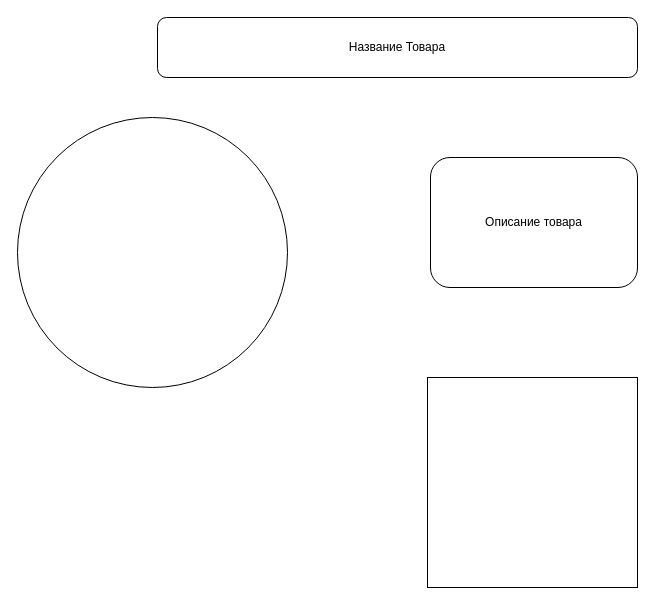
This 655x605 diagram has some shape labels left out. Each missing label, with the centre of its shape:
"Изображение товара" goes at [152,252].
"Список цен и поставщиков" goes at [532,482].
